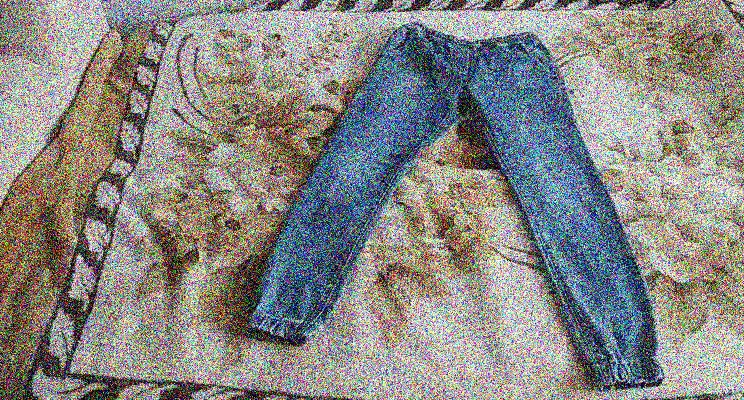Pants: (237, 25, 663, 384)
